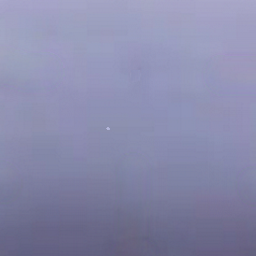Target: (104, 125, 111, 132)
